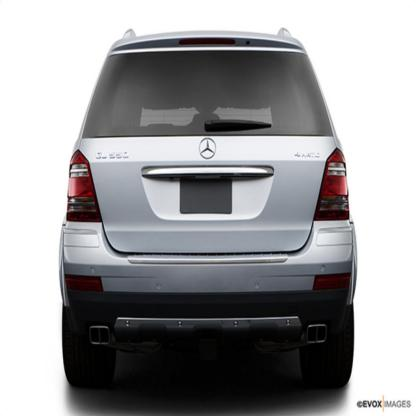Car: (59, 29, 359, 389)
